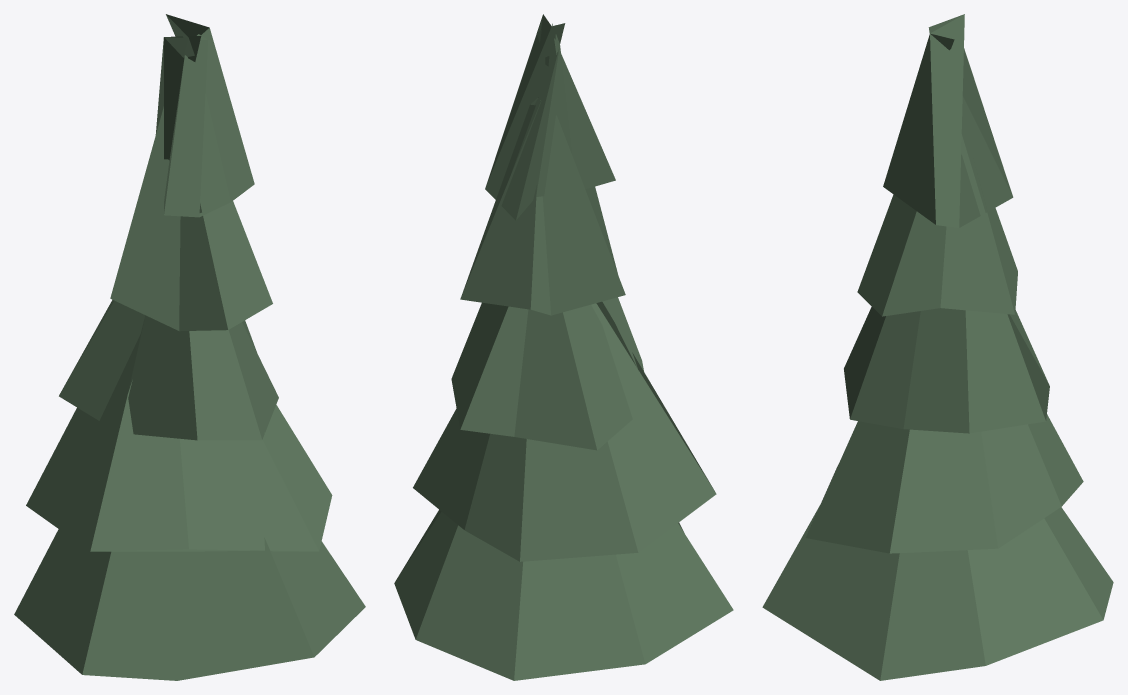
Rendered from tree_pine_a.glb.
The picture shows the model from 3 angles, left to right: view 1: azimuth 30°, elevation 25°; view 2: azimuth 150°, elevation 25°; view 3: azimuth 270°, elevation 25°; orthographic projection.
Parts seen in each view (by area): view 1: tree_pine_a; view 2: tree_pine_a; view 3: tree_pine_a.
Boxes of the visible parts, <box> form: tree_pine_a: <box>14,14,365,680</box>; tree_pine_a: <box>394,14,733,680</box>; tree_pine_a: <box>762,14,1113,680</box>.
Bounding box in the file's own units: 6.5 × 13.02 × 6.9.
